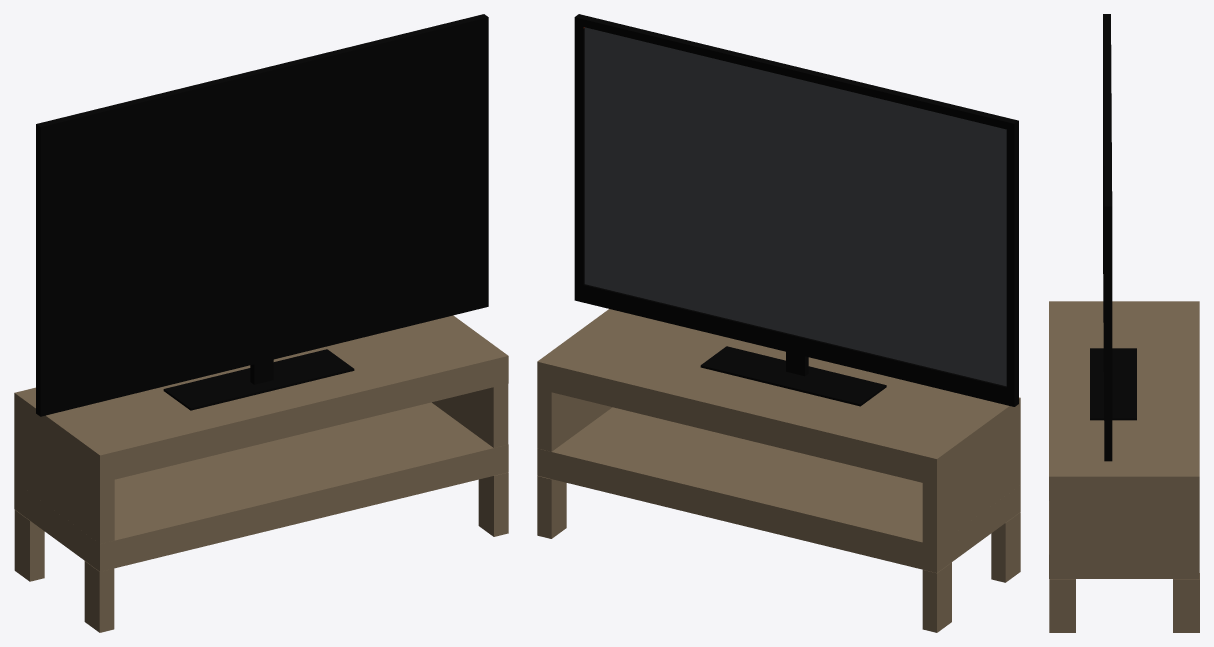
File: Accesories_Entertainment_unit_G.glb
The picture shows the model from 3 angles, left to right: view 1: azimuth 30°, elevation 25°; view 2: azimuth 150°, elevation 25°; view 3: azimuth 270°, elevation 25°; orthographic projection. The views are drawn at different scales.
Parts seen in each view (by area): view 1: Accesories_Entertainment_unit_G; view 2: Accesories_Entertainment_unit_G; view 3: Accesories_Entertainment_unit_G.
Boxes of the visible parts, x1,y1,x2,y2 form: Accesories_Entertainment_unit_G: [14, 14, 508, 632]; Accesories_Entertainment_unit_G: [537, 14, 1020, 632]; Accesories_Entertainment_unit_G: [1049, 14, 1199, 632].
Bounding box in the file's own units: 1.29 × 1.35 × 0.4262.
1 material, 1 textured.
